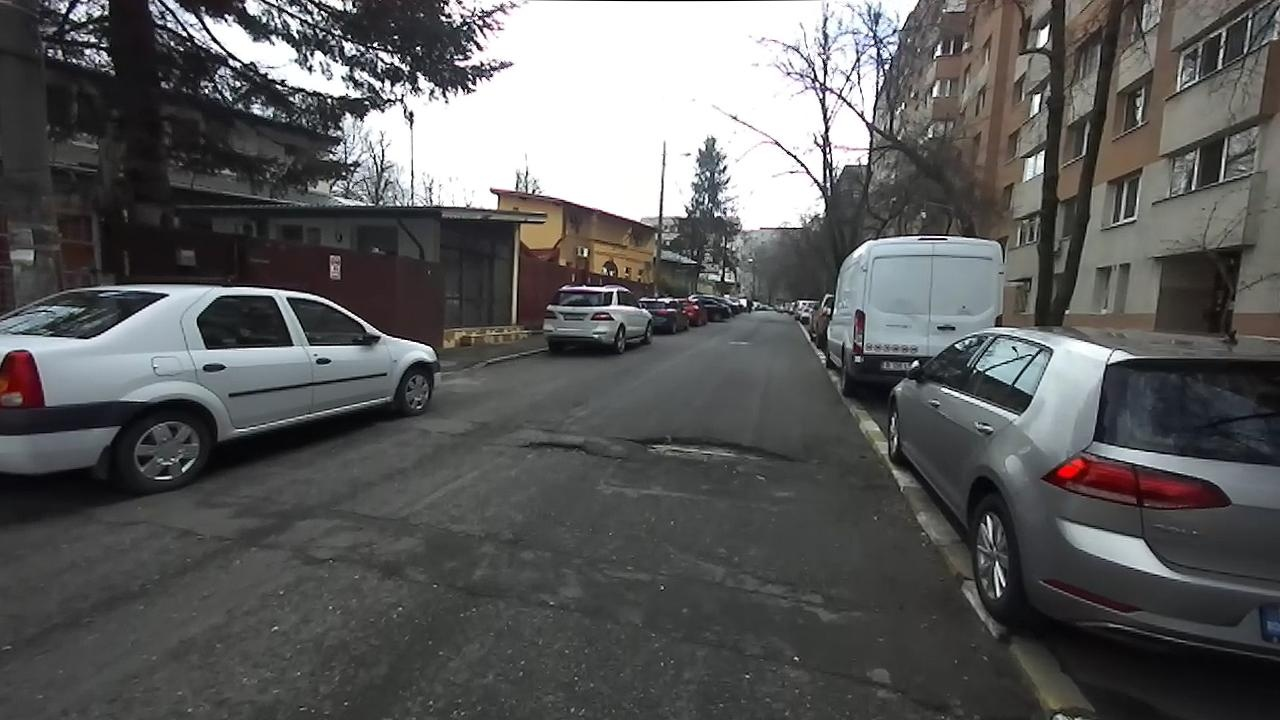pothole: (626, 431, 799, 469), (515, 438, 599, 459)
